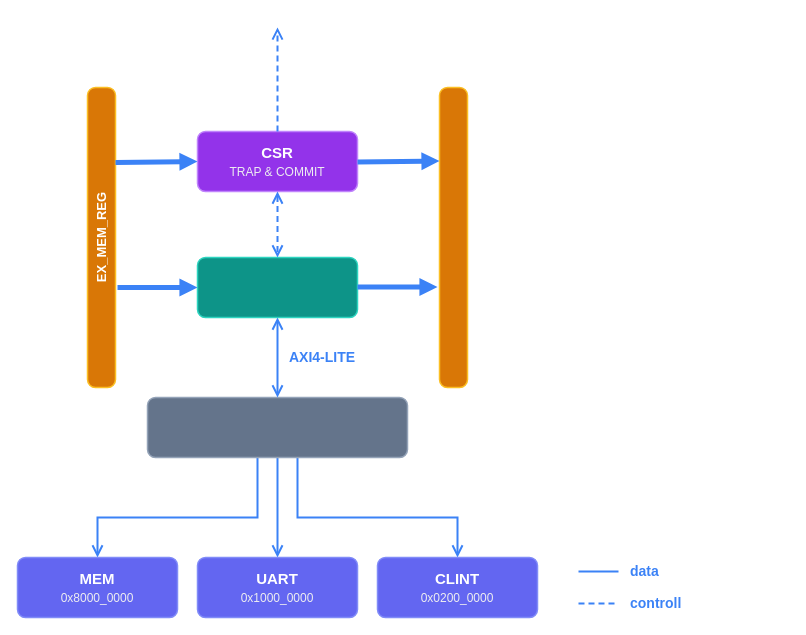
Image size: 806x635. Some labels were removed from this diagram. The shapes that lost their labels are listed below. From the top down, each one's centre as x and y in pixels, then its label:
At (453,237): "MEM_WB_REG".
At (277,287): "LSU STORE or LOAD".
At (277,427): "AXI INTERCONNECT 1 MGR, 3 SUB".
